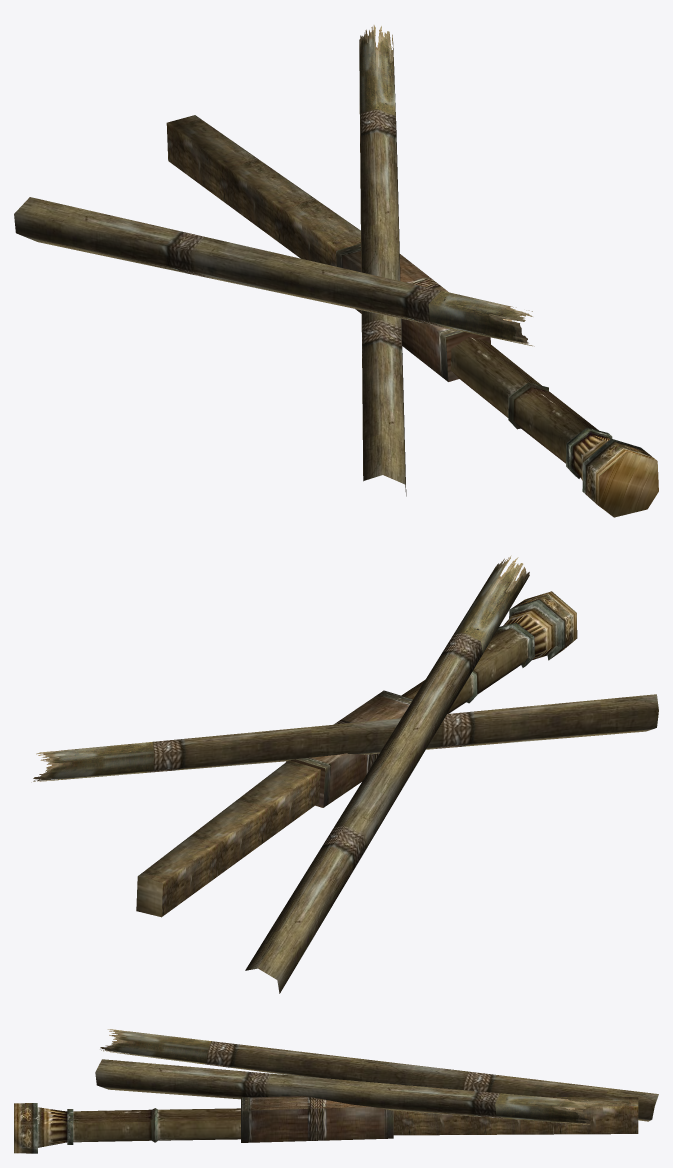
Rendered from wreck_event_block.glb.
3 views of the same model, one above another, from view 1: azimuth 30°, elevation 25°; view 2: azimuth 150°, elevation 25°; view 3: azimuth 270°, elevation 25° (orthographic). The views are drawn at different scales.
Visible parts, largest first — view 1: res\dun\property\wreck\event\wreck_event_block.bsr; view 2: res\dun\property\wreck\event\wreck_event_block.bsr; view 3: res\dun\property\wreck\event\wreck_event_block.bsr.
Boxes of the visible parts, bbox=[...] form: res\dun\property\wreck\event\wreck_event_block.bsr: bbox=[14, 25, 658, 517]; res\dun\property\wreck\event\wreck_event_block.bsr: bbox=[31, 555, 658, 993]; res\dun\property\wreck\event\wreck_event_block.bsr: bbox=[14, 1029, 658, 1153].
Bounding box in the file's own units: 392 × 190 × 839.
Materials: 3 (3 with a texture image).
